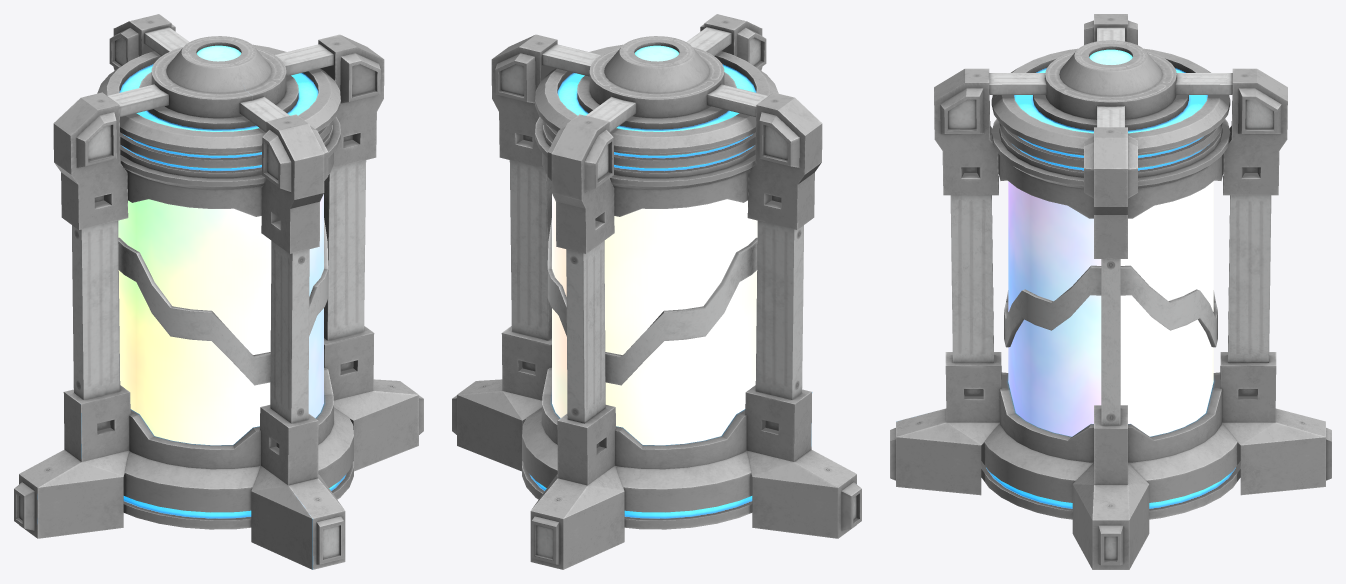
The model's file is SM_VerticalGenerator.fbx.
The picture shows the model from 3 angles, left to right: view 1: azimuth 30°, elevation 25°; view 2: azimuth 150°, elevation 25°; view 3: azimuth 270°, elevation 25°; orthographic projection. The views are drawn at different scales.
Visible parts, largest first — view 1: SM_VerticalGenerator_LOD0; view 2: SM_VerticalGenerator_LOD0; view 3: SM_VerticalGenerator_LOD0.
Boxes of the visible parts, bbox=[...] form: SM_VerticalGenerator_LOD0: bbox=[14, 14, 423, 569]; SM_VerticalGenerator_LOD0: bbox=[452, 14, 861, 569]; SM_VerticalGenerator_LOD0: bbox=[890, 14, 1331, 569].
Size of the model in its own units: 159 by 156 by 164.
